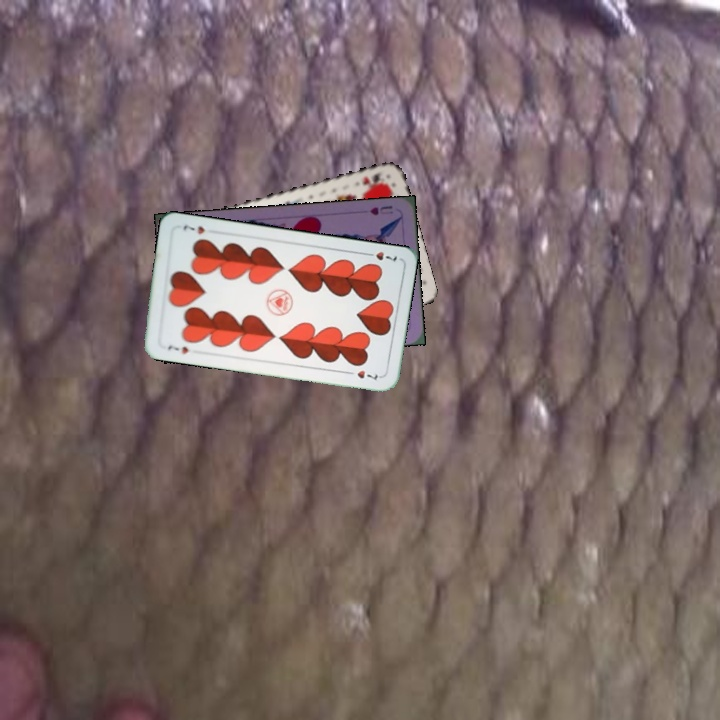H7: (361, 247, 399, 264), (164, 341, 191, 356)
HK: (358, 169, 386, 188)
HU: (365, 201, 395, 218)
